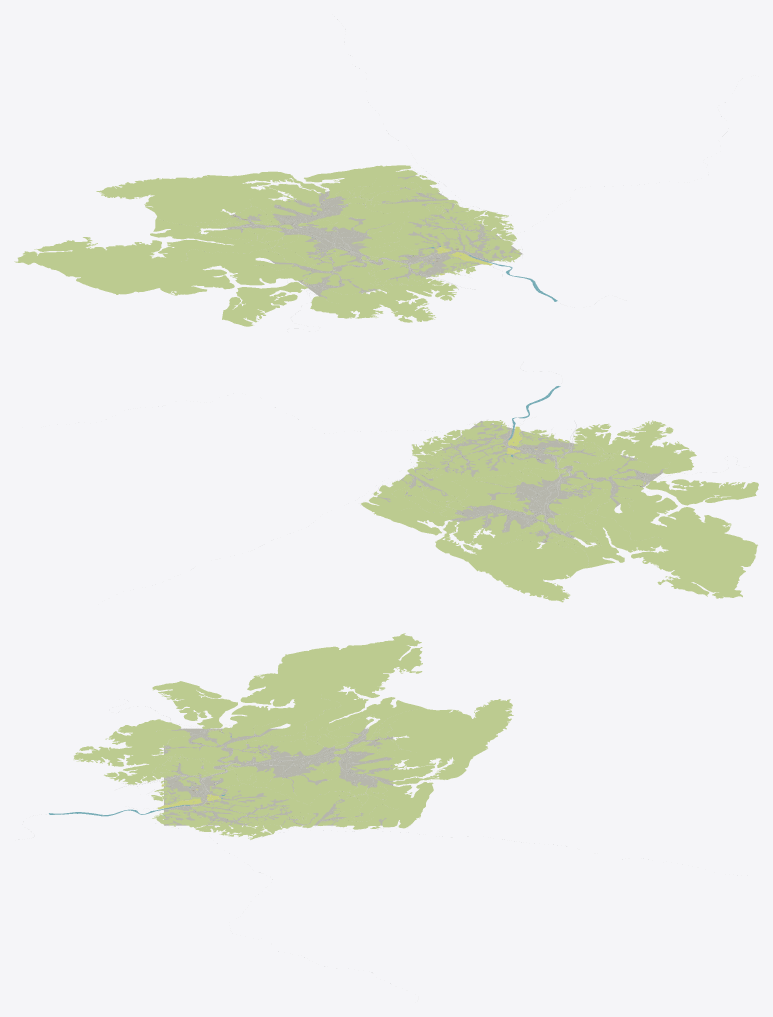
File: ground.fbx
3 views of the same model, one above another, from view 1: azimuth 30°, elevation 25°; view 2: azimuth 150°, elevation 25°; view 3: azimuth 270°, elevation 25° (orthographic). The views are drawn at different scales.
Parts seen in each view (by area): view 1: natural_wo, base; view 2: natural_wo, base; view 3: natural_wo, base.
Part boxes in pixels (x1,y1,x2,y2): natural_wo: (14, 165, 520, 326); base: (226, 175, 522, 298); natural_wo: (361, 420, 758, 602); base: (377, 421, 664, 543); natural_wo: (73, 633, 513, 839); base: (164, 728, 393, 825).
Bounding box in the file's own units: 76301 × 35.5 × 65016.
